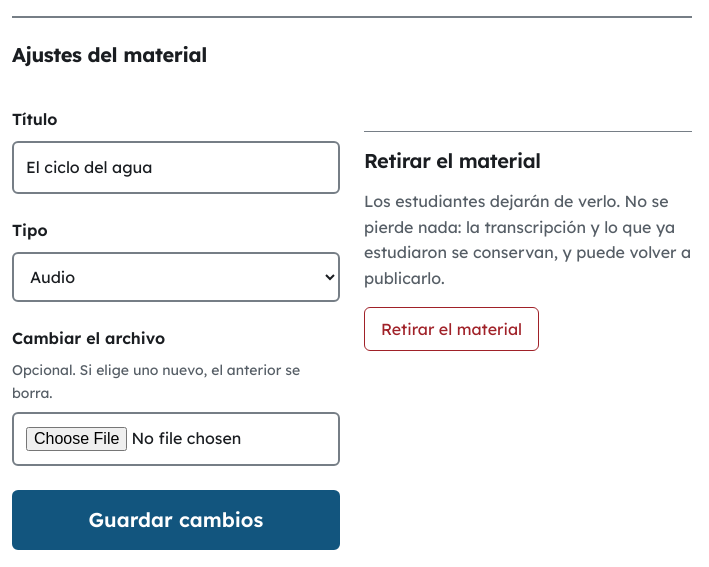
Test: Ajustes del material › retirar pide confirmación, nombrando el material
This screenshot has width=709, height=567.
Click the button "Retirar el material". click: (451, 329)
box: [364,307,539,351]
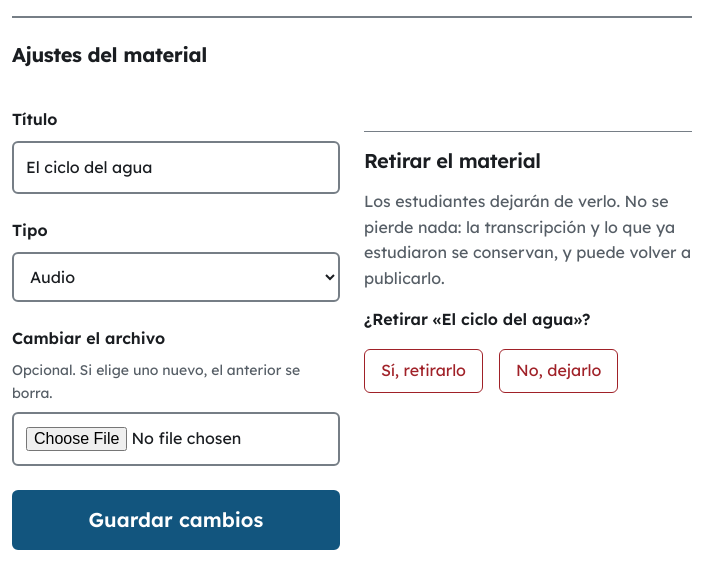
Expected: the text "¿Retirar «El ciclo del agua»?" is shown, [364,309,590,329]
